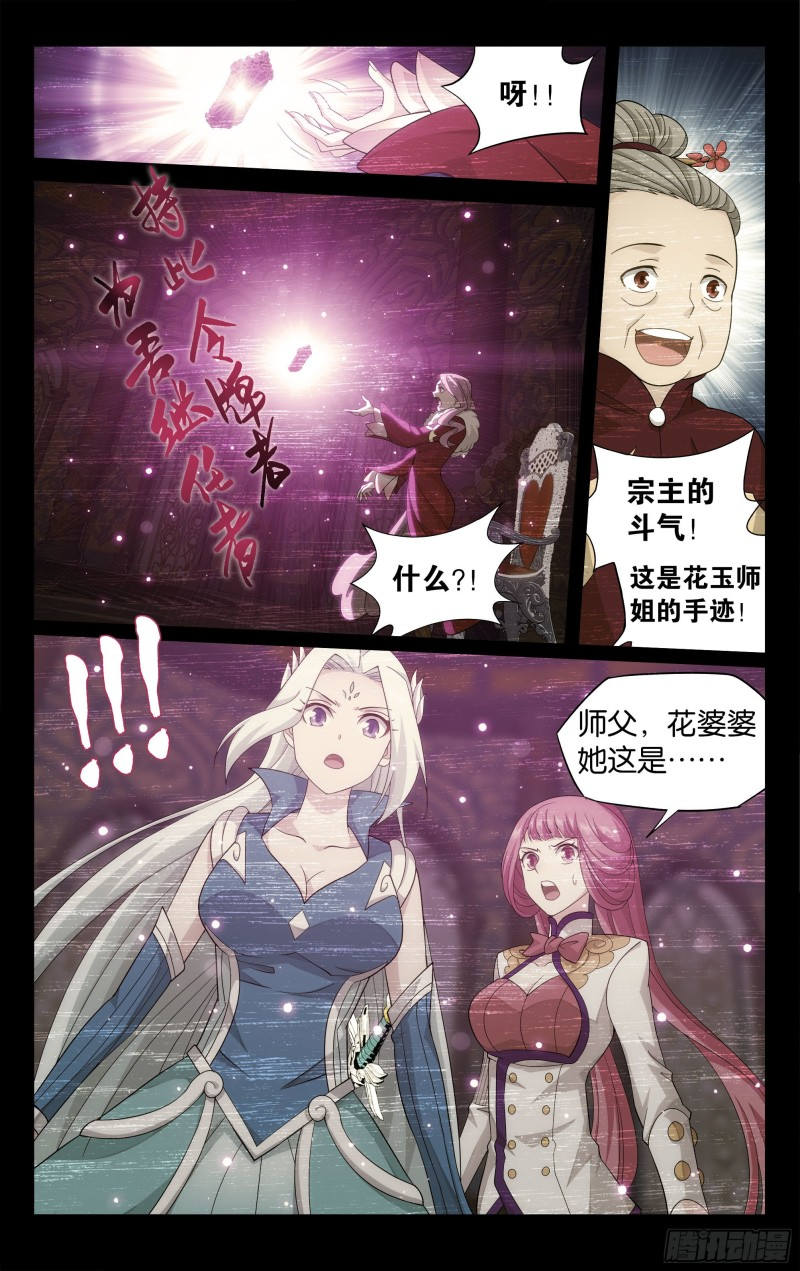boxBomb: (354, 505, 519, 640), (585, 425, 766, 546), (440, 41, 593, 155), (607, 555, 769, 647)
boxEllipse: (543, 667, 768, 829)
minBox: (27, 634, 768, 1222), (30, 179, 591, 643), (581, 41, 770, 649), (30, 38, 600, 197)
